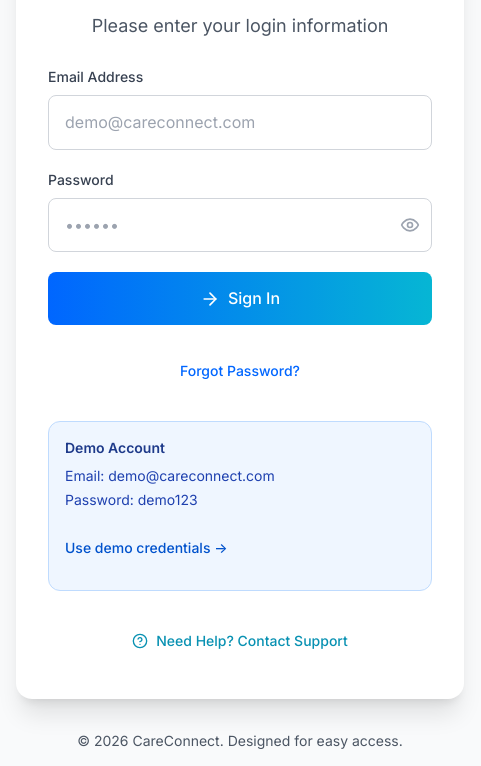
SignInPage › fills demo credentials when demo button is clicked
(page scrolled)
Click the button "Use demo credentials →" at {"x": 146, "y": 548}, box [65, 522, 228, 574]
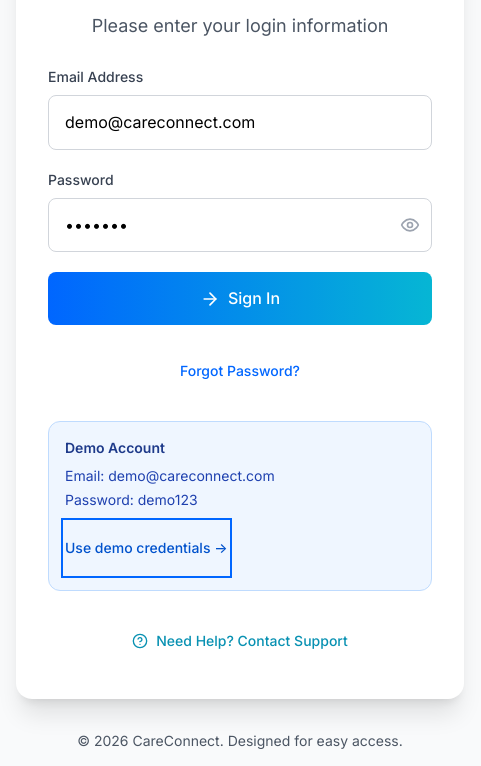
Expected: the field labelled "Email Address" holds "demo@careconnect.com", [48, 95, 432, 150]
Expected: the password field labelled "Password" holds "demo123", [48, 198, 432, 252]
